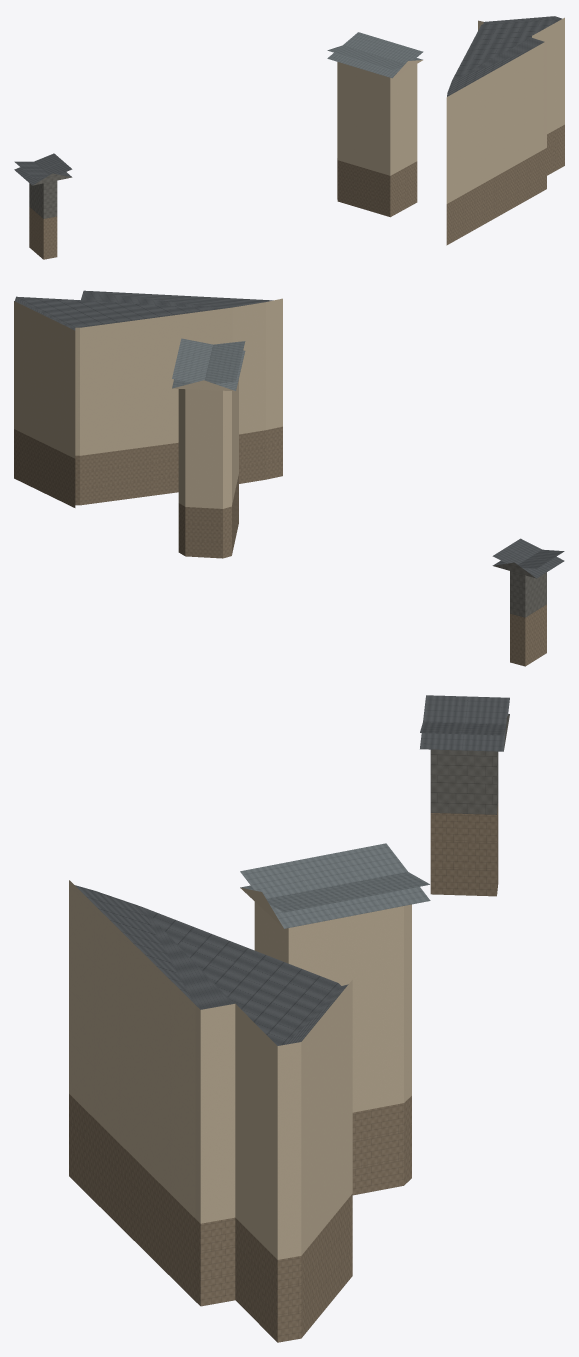
The model's file is bld_c-2_0_538.gltf.
3 views of the same model, one above another, from view 1: azimuth 30°, elevation 25°; view 2: azimuth 150°, elevation 25°; view 3: azimuth 270°, elevation 25° (orthographic). The views are drawn at different scales.
Parts seen in each view (by area): view 1: bld_c-2_0_538; view 2: bld_c-2_0_538; view 3: bld_c-2_0_538.
Boxes of the visible parts, box(x1,y1,x2,y2) form: bld_c-2_0_538: box(14, 16, 564, 259); bld_c-2_0_538: box(14, 290, 564, 666); bld_c-2_0_538: box(69, 695, 509, 1342).
Bounding box in the file's own units: 63.91 × 18.88 × 24.64.
7 materials, 7 textured.
